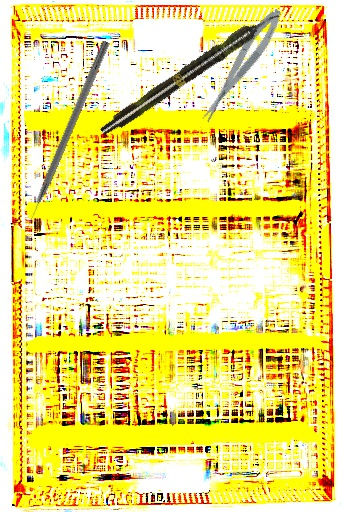Handpiece: (97, 6, 283, 140)
Hook Surgical: (21, 39, 111, 232)
Micro Scissor: (194, 4, 288, 126)
